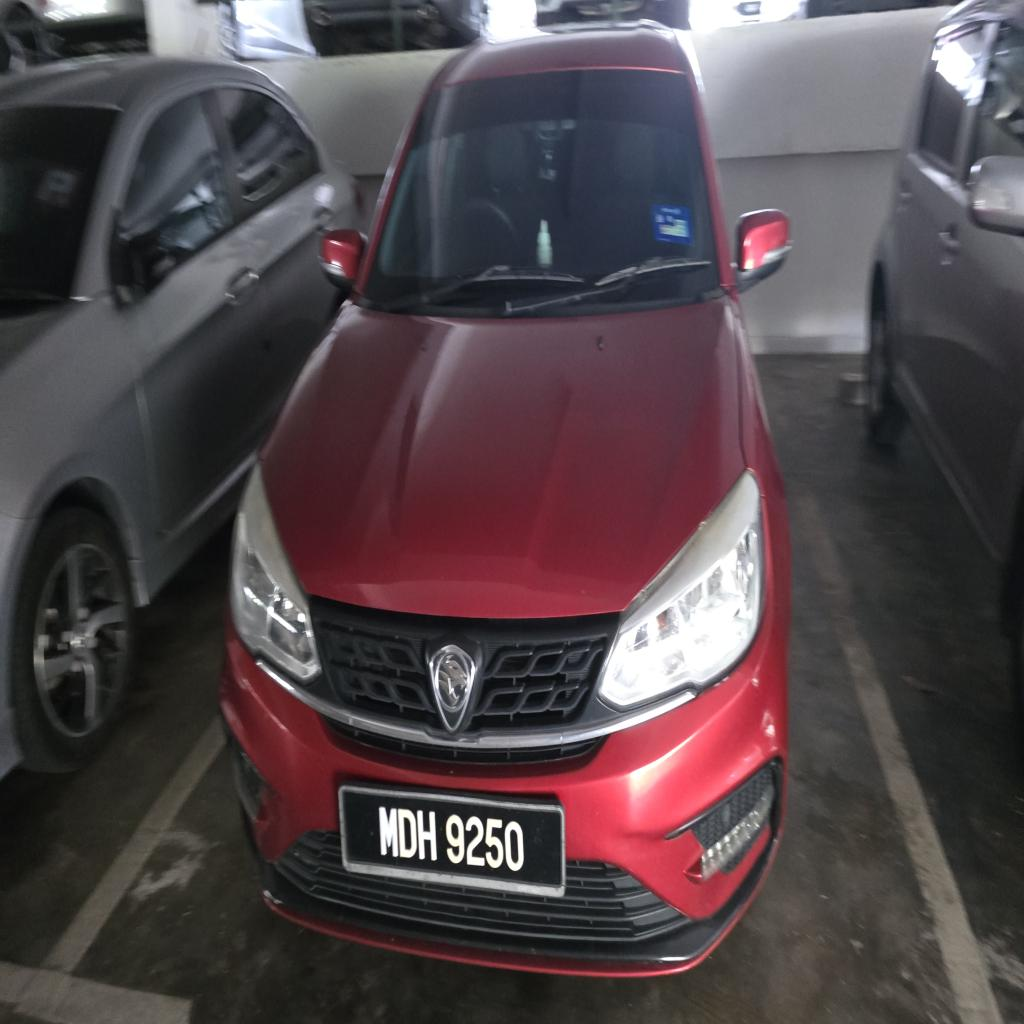car: (221, 24, 790, 974)
car plate: (339, 785, 564, 895)
